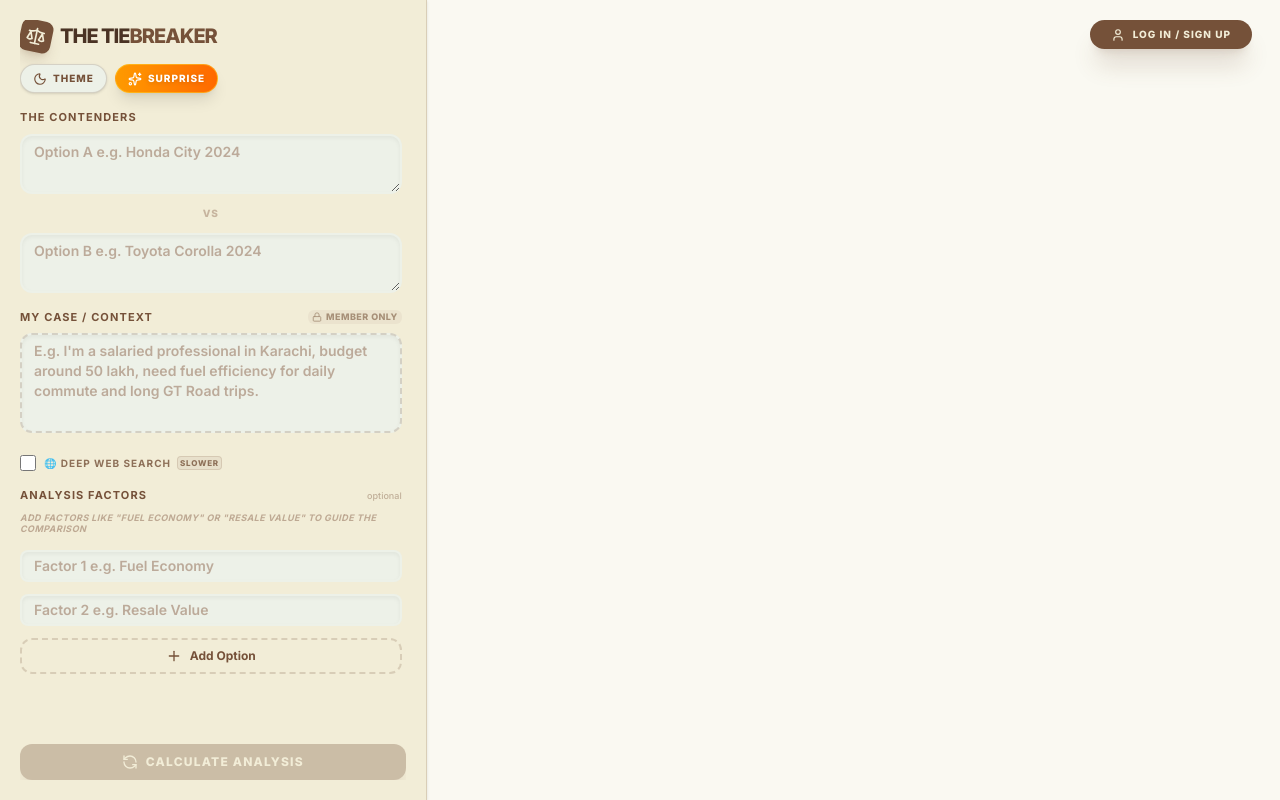
it: 2. User Interactions and State Management › should add a new factor input when "Add Option" is clicked
Click the button "Add Option". click: {"x": 211, "y": 656}
box: [20,638,402,674]
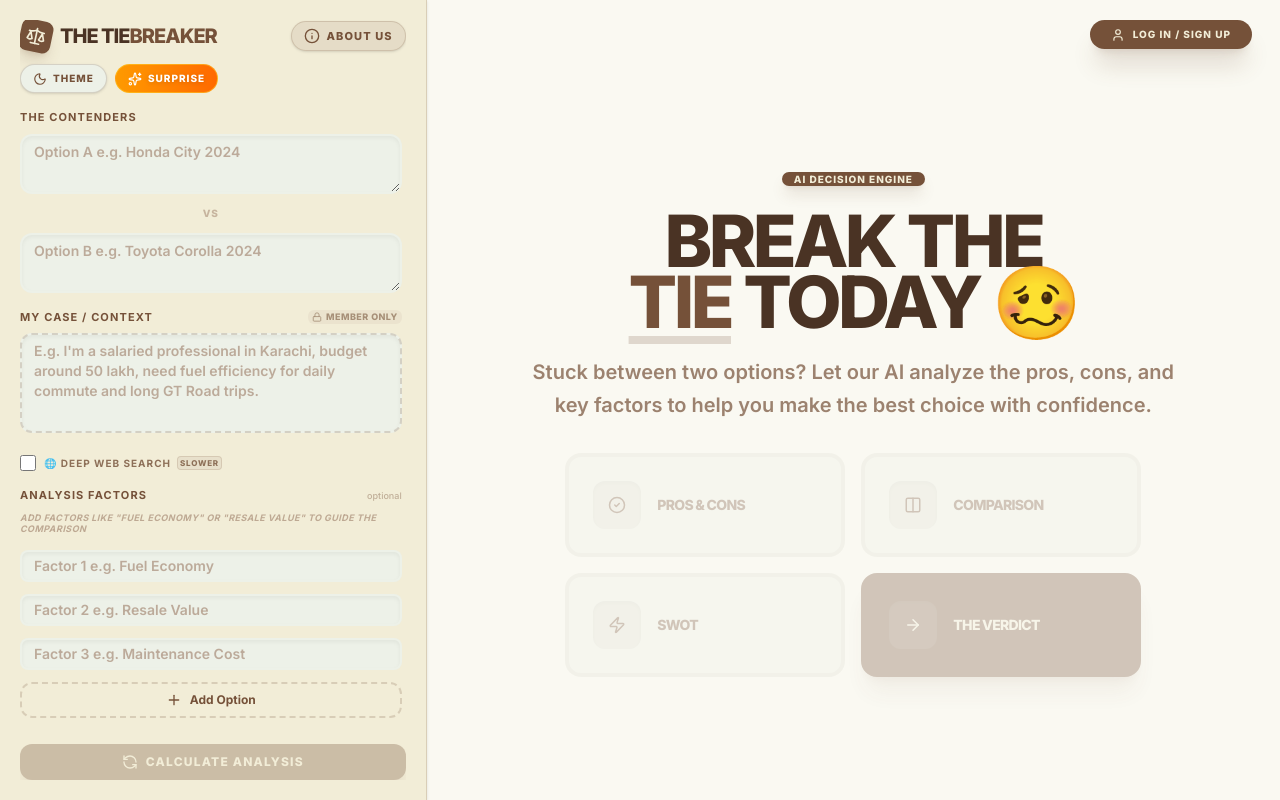
Now the number of fields with placeholder "Factor 1 e.g. Fuel Economy" is 3, box [20,550,402,582]; [20,594,402,626]; [20,638,402,670]
